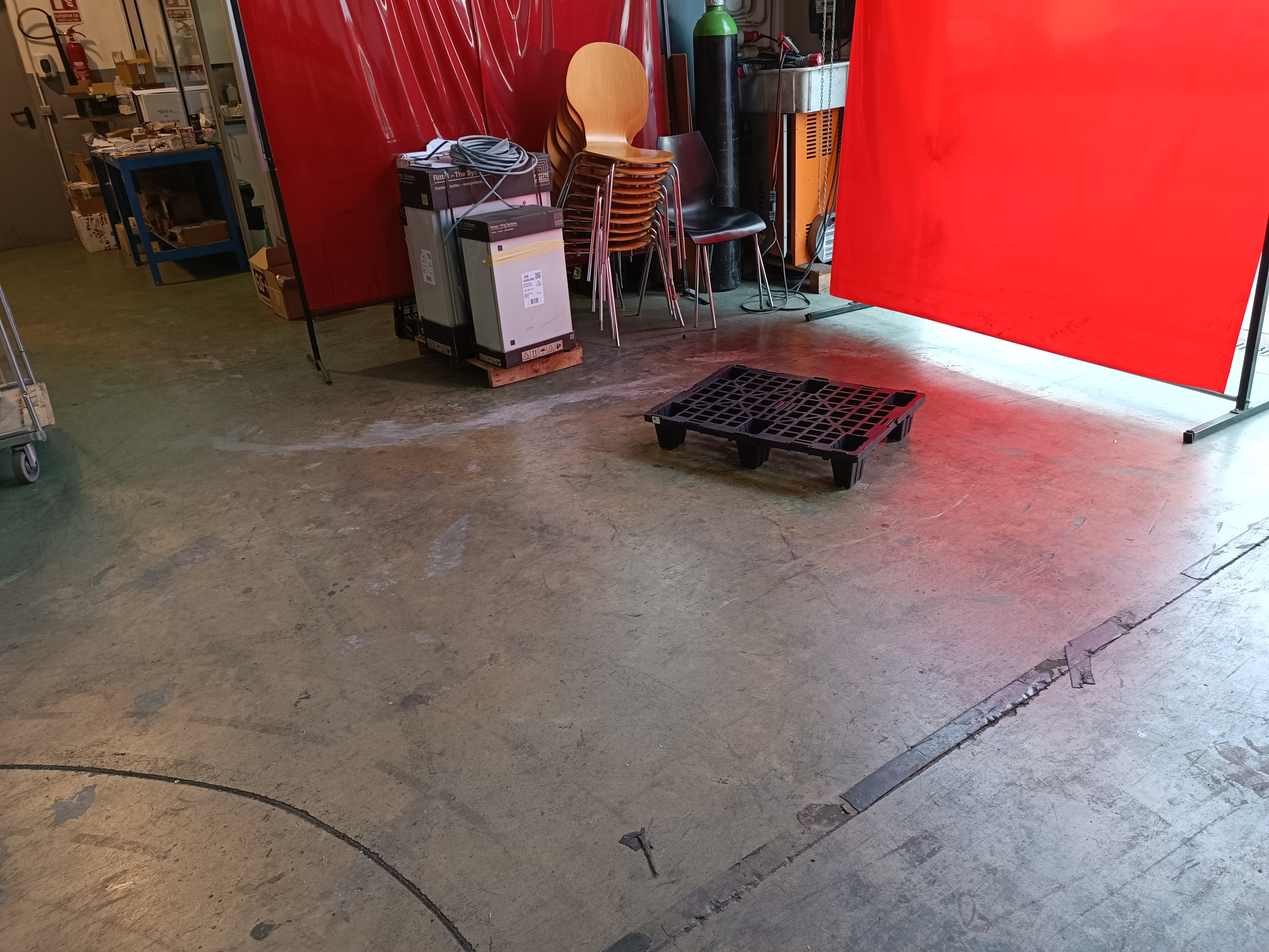block: (830, 456, 866, 489), (735, 438, 771, 470), (652, 421, 687, 450), (887, 414, 912, 439)
front: (645, 414, 858, 493)
hole pallet: (754, 442, 834, 484), (670, 427, 739, 463)
